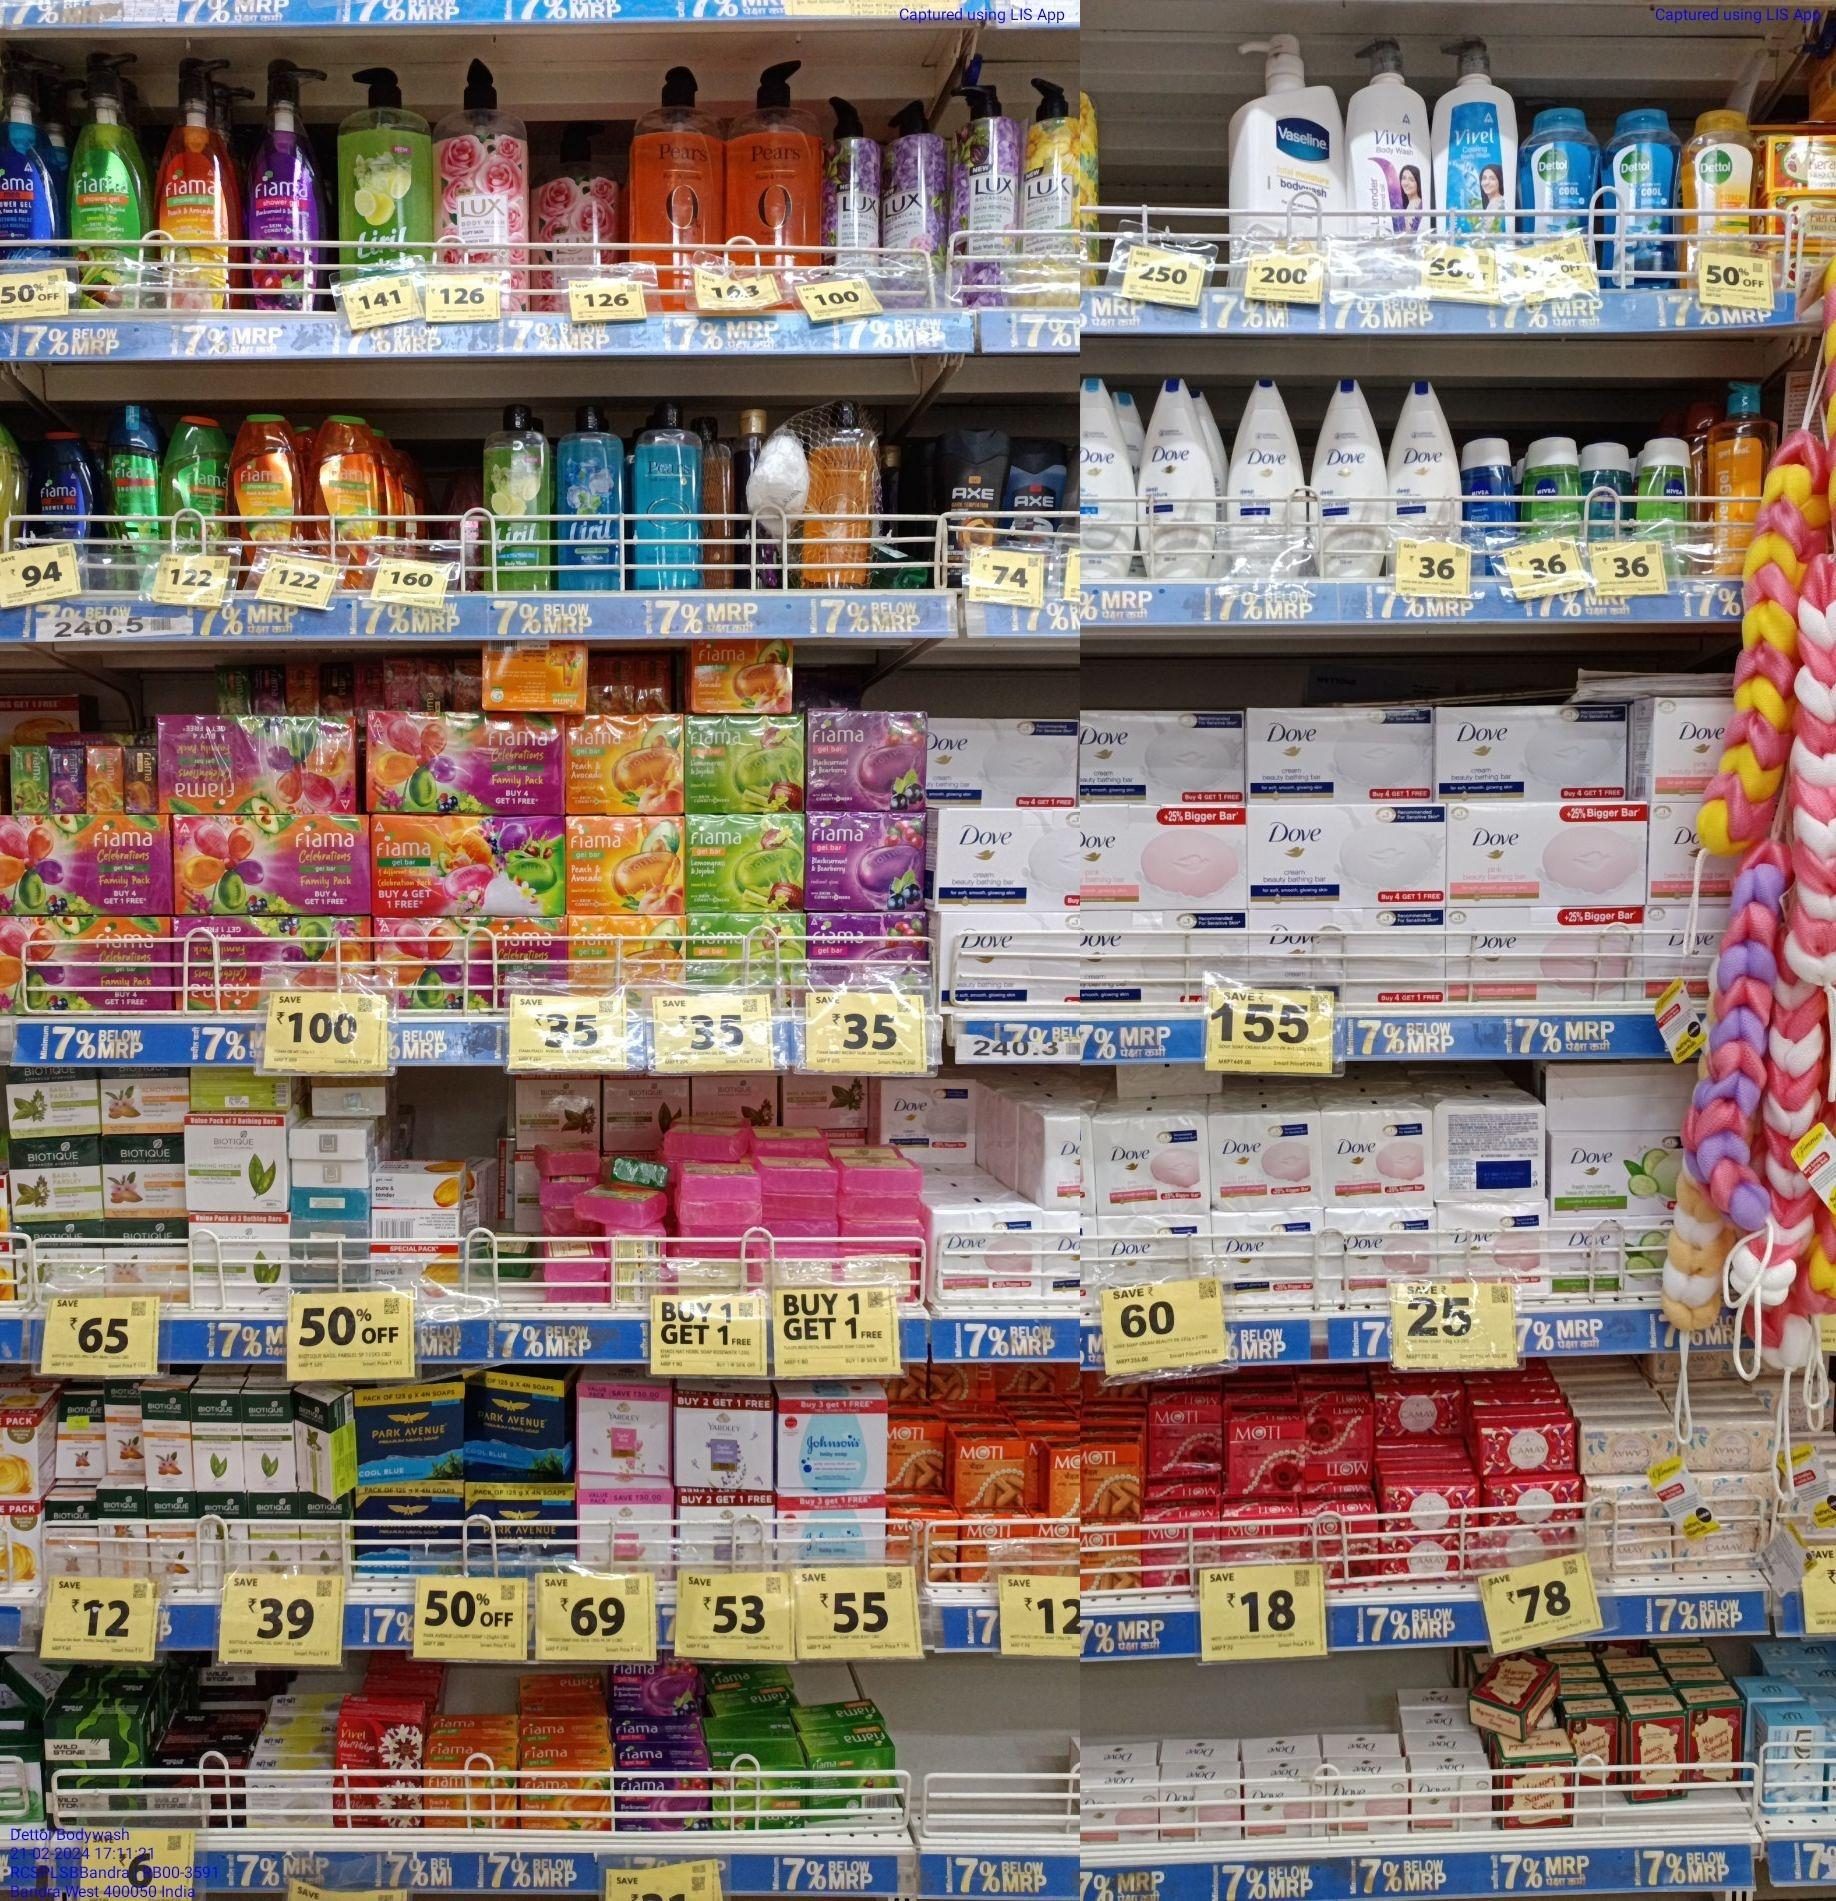Dettol_Bodywash_Cool: (1602, 104, 1683, 287), (1515, 104, 1604, 238)
Dettol_Bodywash_Refresh: (1683, 104, 1756, 253)
Dove_Deep_Moisture_Body_Wash_250ML: (1220, 377, 1310, 577), (1310, 373, 1388, 577), (1139, 377, 1218, 575), (1388, 373, 1463, 540)
Fiama_Shower_Gel_Lemongrass_and_Jojoba_250ML: (158, 412, 227, 552)
Fiama_Shower_Gel_Peach_and_Avocado_250ML: (304, 412, 382, 555), (226, 412, 302, 552)
Liril_Cooling_Mint_Body_Wash_250ML: (553, 402, 623, 587)
Liril_Lime_and_Tea_Tree_Oil_Body_Wash_250ML: (479, 401, 553, 591)
Pears_Pure_Glycerin_and_Mint_Extracts_Body_Wash_250ML: (631, 401, 701, 587)
